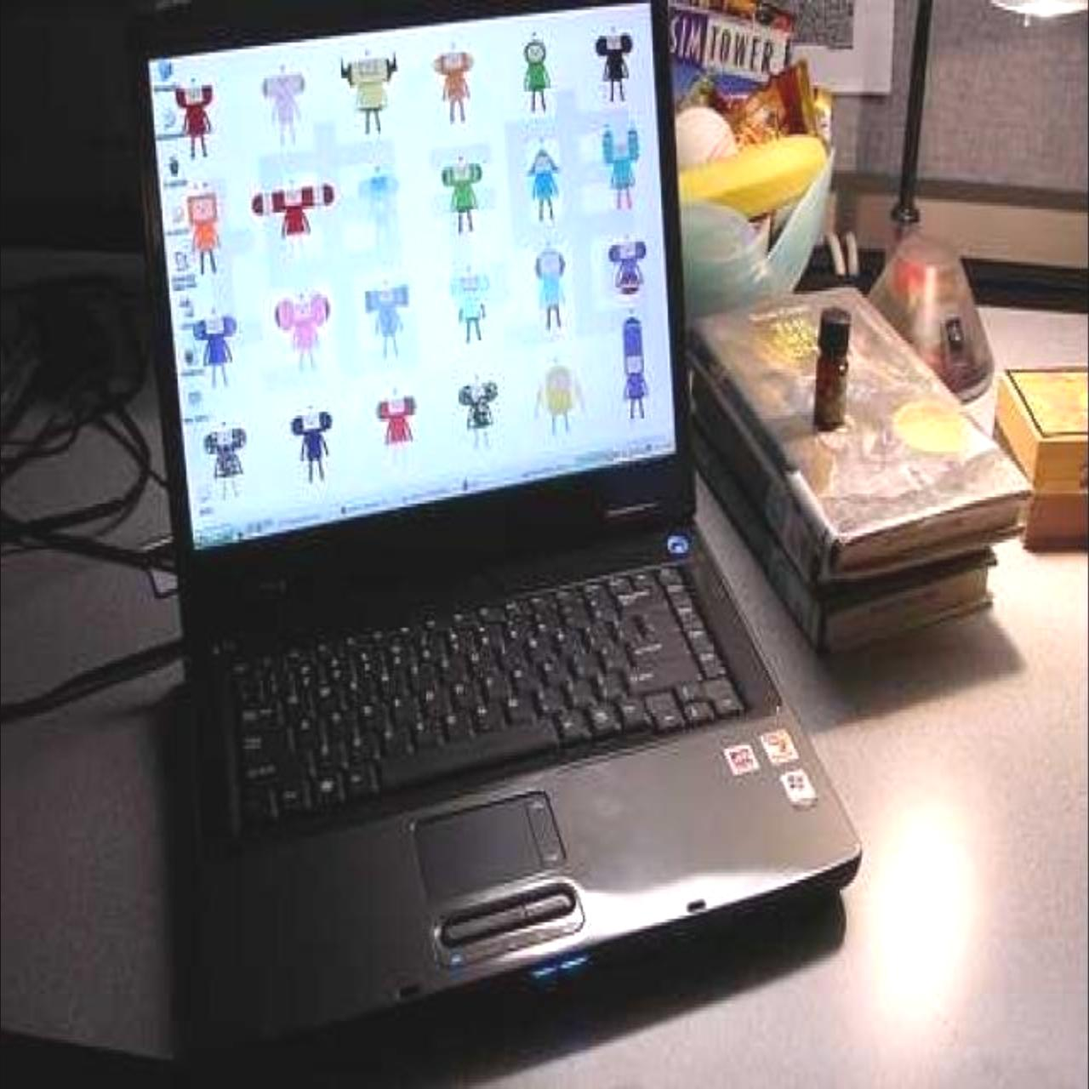laptop: (158, 2, 863, 965)
